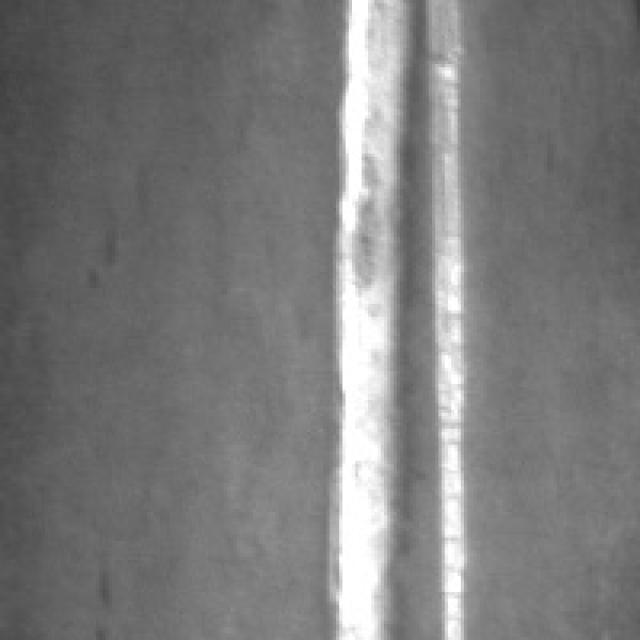inclusion: (93, 541, 128, 614)
scratches: (333, 0, 422, 634), (422, 0, 473, 637)
